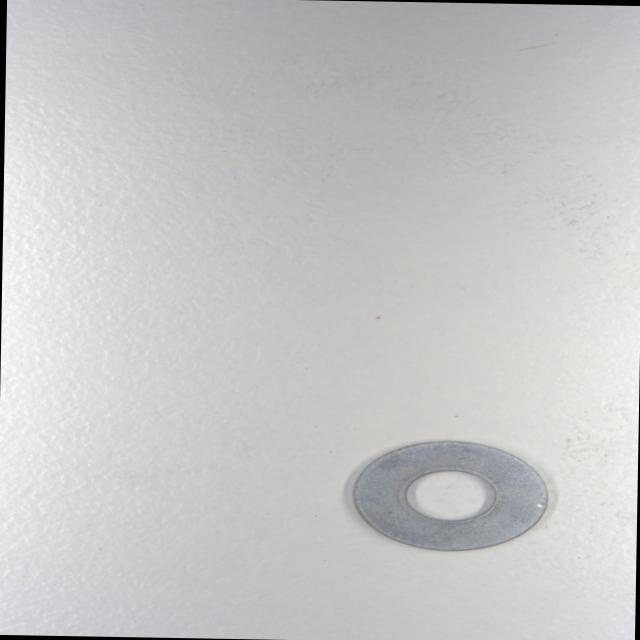washer: (350, 438, 549, 554)
